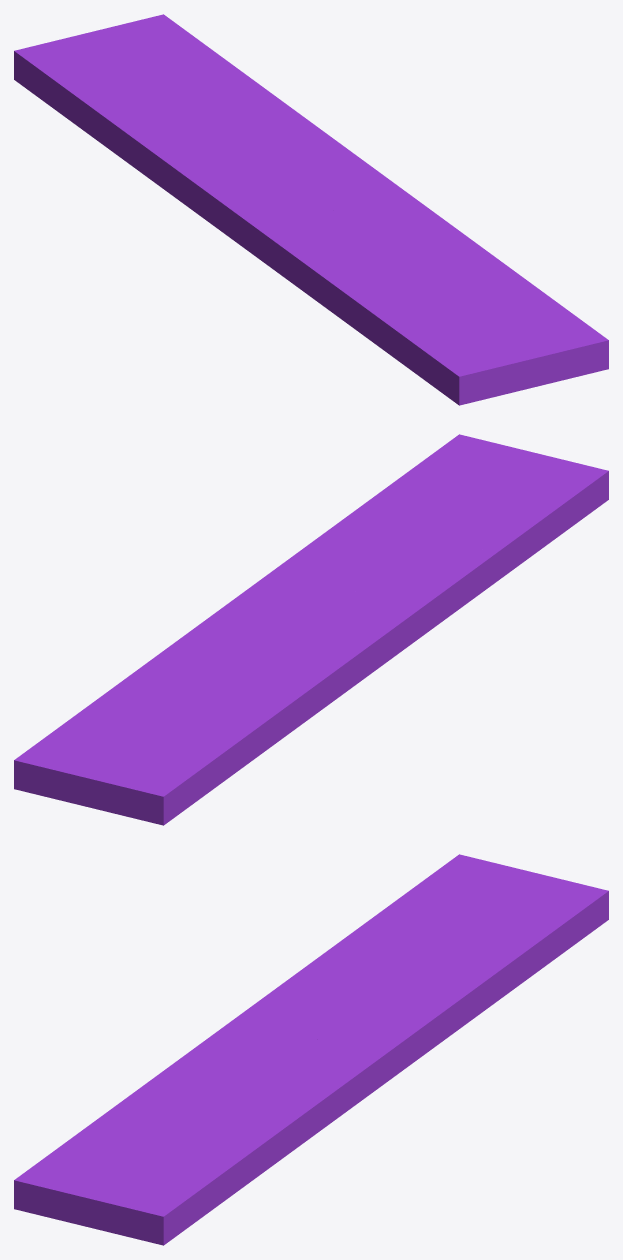
Rendered from StairsStep_141_chunks.fbx.
The picture shows the model from 3 angles, top to bottom: view 1: azimuth 30°, elevation 25°; view 2: azimuth 150°, elevation 25°; view 3: azimuth 330°, elevation 25°; orthographic projection.
Parts seen in each view (by area): view 1: StairsStep_141_1, StairsStep_141_3, StairsStep_141_0, StairsStep_141_2; view 2: StairsStep_141_3, StairsStep_141_1, StairsStep_141_0, StairsStep_141_2; view 3: StairsStep_141_1, StairsStep_141_3, StairsStep_141_2, StairsStep_141_0.
Boxes of the visible parts, left/top/right/bottom form: StairsStep_141_1: left=323, top=183, right=608, bottom=405; StairsStep_141_3: left=14, top=14, right=394, bottom=195; StairsStep_141_0: left=14, top=73, right=279, bottom=255; StairsStep_141_2: left=225, top=189, right=367, bottom=309; StairsStep_141_3: left=14, top=591, right=313, bottom=824; StairsStep_141_1: left=245, top=434, right=608, bottom=608; StairsStep_141_0: left=159, top=630, right=403, bottom=825; StairsStep_141_2: left=304, top=537, right=517, bottom=649; StairsStep_141_1: left=14, top=1042, right=385, bottom=1245; StairsStep_141_3: left=309, top=854, right=608, bottom=1082; StairsStep_141_2: left=106, top=1008, right=318, bottom=1112; StairsStep_141_0: left=249, top=889, right=411, bottom=1020.
Size of the model in its own units: 157 by 28.98 by 810.
